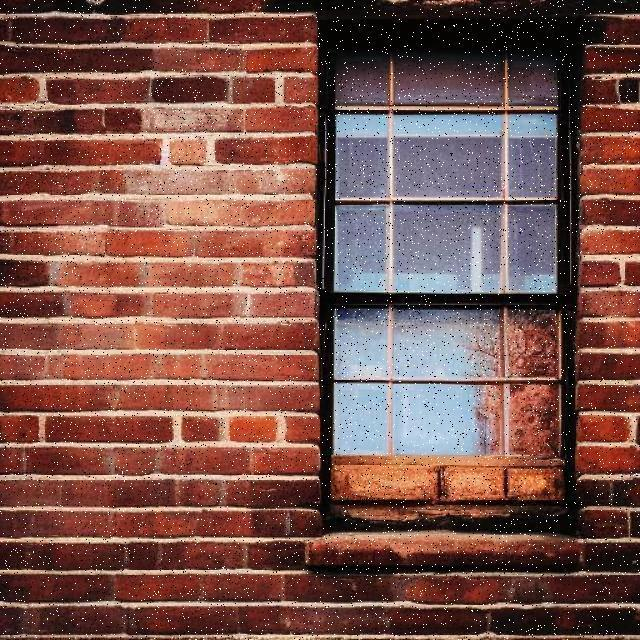window: (322, 8, 579, 532)
